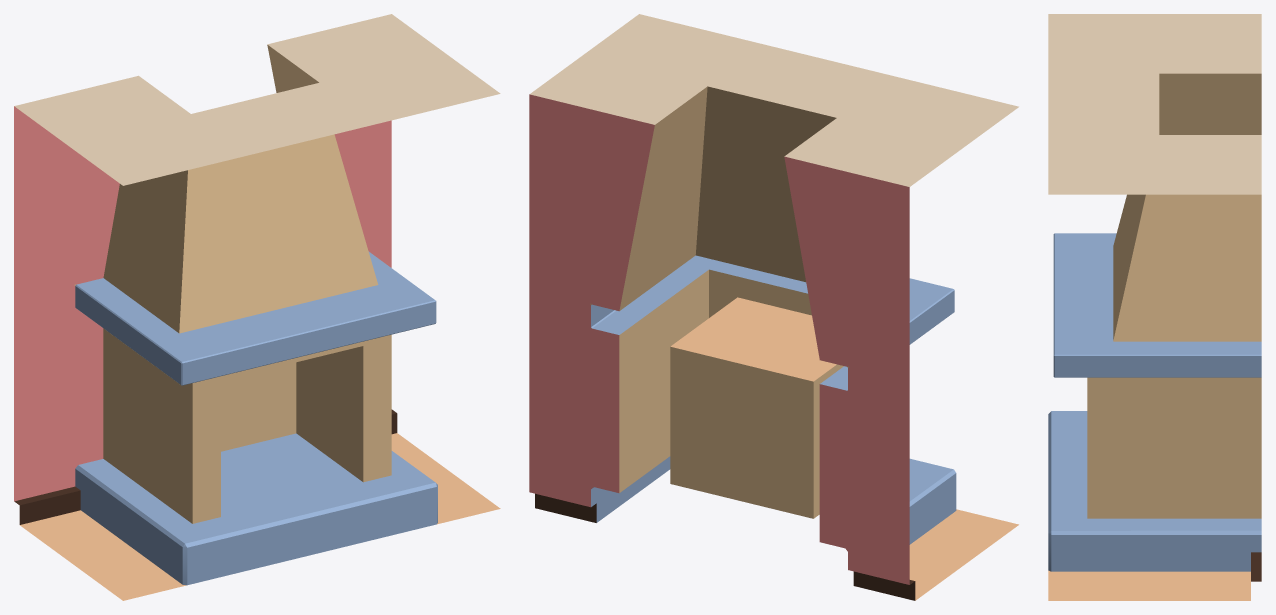
The model's file is Cheminee.fbx.
3 views of the same model, side by side, from view 1: azimuth 30°, elevation 25°; view 2: azimuth 150°, elevation 25°; view 3: azimuth 270°, elevation 25° (orthographic). The views are drawn at different scales.
Visible parts, largest first — view 1: Cheminée; view 2: Cheminée; view 3: Cheminée.
Boxes of the visible parts, x1,y1,x2,y2 form: Cheminée: (14,14,500,600); Cheminée: (529,14,1018,600); Cheminée: (1048,14,1261,600).
Bounding box in the file's own units: 2 × 2.1 × 1.
